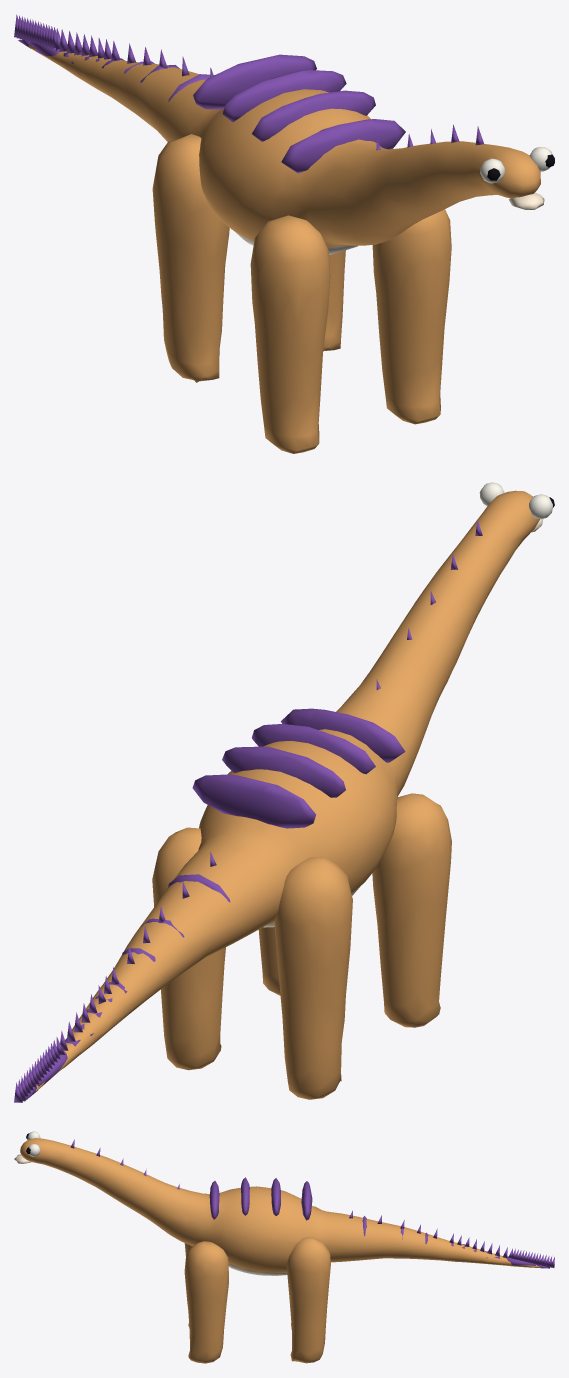
The model's file is Dino_Diplodocus.fbx.
The picture shows the model from 3 angles, top to bottom: view 1: azimuth 30°, elevation 25°; view 2: azimuth 150°, elevation 25°; view 3: azimuth 270°, elevation 25°; orthographic projection. The views are drawn at different scales.
Parts seen in each view (by area): view 1: Body, LegFL, Accent, LegBL, LegFR, LegBR, EyeWhite, Belly; view 2: Body, Accent, LegBL, LegFL, LegBR, LegFR, EyeWhite; view 3: Body, LegBR, LegFR, Accent, Belly.
Boxes of the visible parts, left/top/right/bottom form: Body: left=29, top=45, right=540, bottom=247; LegFL: left=250, top=215, right=330, bottom=453; Accent: left=14, top=14, right=483, bottom=173; LegBL: left=152, top=134, right=229, bottom=382; LegFR: left=372, top=209, right=451, bottom=424; LegBR: left=323, top=250, right=345, bottom=351; EyeWhite: left=480, top=147, right=552, bottom=183; Belly: left=234, top=192, right=544, bottom=254; Body: left=35, top=490, right=539, bottom=1091; Accent: left=14, top=519, right=482, bottom=1102; LegBL: left=274, top=857, right=352, bottom=1099; LegFL: left=372, top=793, right=451, bottom=1027; LegBR: left=152, top=827, right=225, bottom=1070; LegFR: left=258, top=927, right=280, bottom=995; EyeWhite: left=479, top=482, right=552, bottom=519; Body: left=20, top=1138, right=541, bottom=1272; LegBR: left=286, top=1237, right=330, bottom=1363; LegFR: left=184, top=1241, right=228, bottom=1363; Accent: left=70, top=1139, right=554, bottom=1268; Belly: left=14, top=1154, right=287, bottom=1275.
Bounding box in the file's own units: 2.97 × 5.95 × 14.08.
